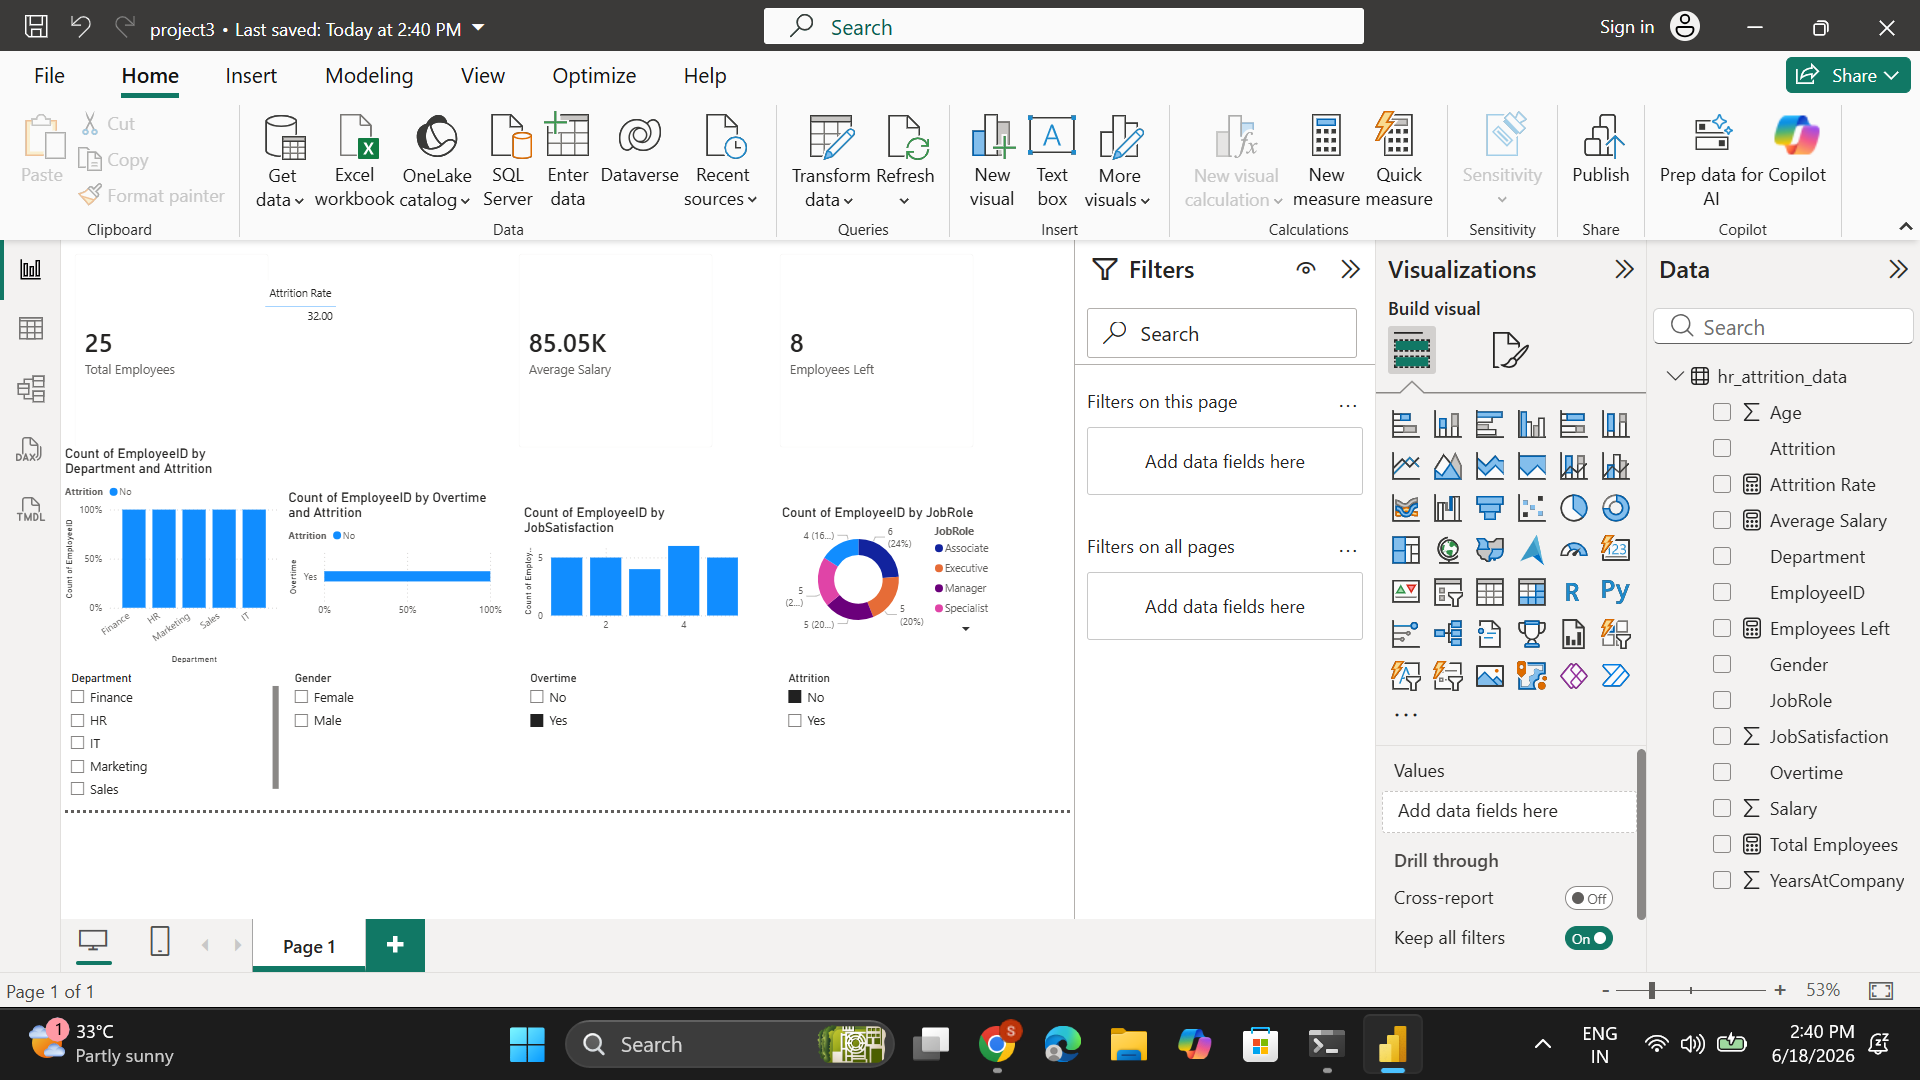

The dashboard page shown, as its layout file describes it:
{"tool":"powerbi","page":{"name":"Page 1","canvas":[1280,720],"ordinal":0},"visuals":[{"type":"cardVisual","fields":{"Data":["hr_attrition_data.Total Employees"]},"box":[0,0,279.7,279.7],"z":0},{"type":"tableEx","fields":{"Values":["hr_attrition_data.Attrition Rate"]},"box":[251.3,51,279.7,281.6],"z":1},{"type":"cardVisual","fields":{"Data":["hr_attrition_data.Average Salary"]},"box":[561.3,0,279.7,279.7],"z":2},{"type":"cardVisual","fields":{"Data":["hr_attrition_data.Employees Left"]},"box":[890.1,0,279.7,279.7],"z":3},{"type":"hundredPercentStackedColumnChart","fields":{"Category":["hr_attrition_data.Department"],"Y":["CountNonNull(hr_attrition_data.EmployeeID)"],"Series":["hr_attrition_data.Attrition"]},"box":[0,258.9,279.7,279.7],"z":4},{"type":"hundredPercentStackedBarChart","fields":{"Category":["hr_attrition_data.Overtime"],"Y":["CountNonNull(hr_attrition_data.EmployeeID)"],"Series":["hr_attrition_data.Attrition"]},"box":[281.6,313.7,279.7,170.1],"z":5},{"type":"lineStackedColumnComboChart","fields":{"Y":["CountNonNull(hr_attrition_data.EmployeeID)"],"Category":["hr_attrition_data.JobSatisfaction"]},"box":[580,333.6,280.5,170.6],"z":6},{"type":"donutChart","fields":{"Category":["hr_attrition_data.JobRole"],"Y":["CountNonNull(hr_attrition_data.EmployeeID)"]},"box":[906,333.6,280.5,170.6],"z":7},{"type":"slicer","fields":{"Values":["hr_attrition_data.Department"]},"box":[0,540.2,280.5,170.6],"z":8},{"type":"slicer","fields":{"Values":["hr_attrition_data.Gender"]},"box":[282,540,280,171],"z":9},{"type":"slicer","fields":{"Values":["hr_attrition_data.Overtime"]},"box":[580,540,281,171],"z":10},{"type":"slicer","fields":{"Values":["hr_attrition_data.Attrition"]},"box":[906,540,281,171],"z":11}]}

Visuals, with their boxes on the page's 1280x720 design canvas (x1, y1, x2, y2). These are canvas units, not pixel positions in the 1920x1080 screenshot, which may show the page scaled, cropped or inside an application window:
cardVisual - hr_attrition_data.Total Employees: [0,0,280,280]
tableEx - hr_attrition_data.Attrition Rate: [251,51,531,333]
cardVisual - hr_attrition_data.Average Salary: [561,0,841,280]
cardVisual - hr_attrition_data.Employees Left: [890,0,1170,280]
hundredPercentStackedColumnChart - hr_attrition_data.Department x CountNonNull(hr_attrition_data.EmployeeID): [0,259,280,539]
hundredPercentStackedBarChart - hr_attrition_data.Overtime x CountNonNull(hr_attrition_data.EmployeeID): [282,314,561,484]
lineStackedColumnComboChart - CountNonNull(hr_attrition_data.EmployeeID) x hr_attrition_data.JobSatisfaction: [580,334,860,504]
donutChart - hr_attrition_data.JobRole x CountNonNull(hr_attrition_data.EmployeeID): [906,334,1186,504]
slicer - hr_attrition_data.Department: [0,540,280,711]
slicer - hr_attrition_data.Gender: [282,540,562,711]
slicer - hr_attrition_data.Overtime: [580,540,861,711]
slicer - hr_attrition_data.Attrition: [906,540,1187,711]
